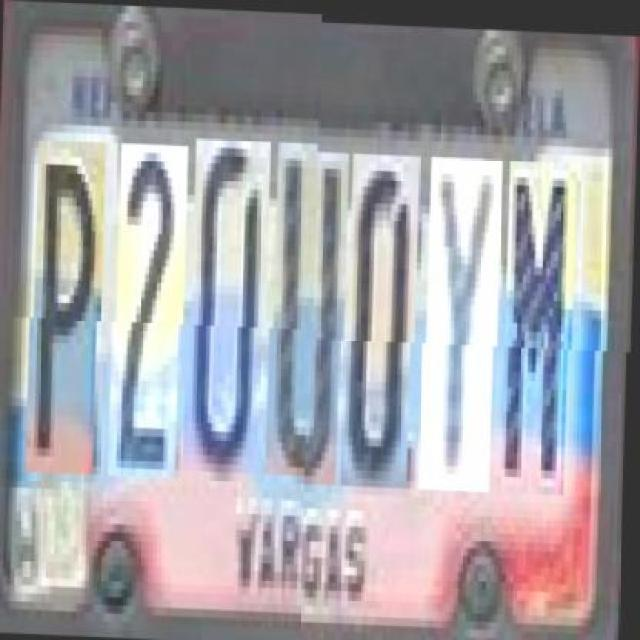0: (190, 145, 272, 480), (347, 150, 421, 484)
2: (114, 150, 188, 484)
m: (504, 156, 578, 490)
p: (32, 148, 106, 482)
u: (272, 148, 350, 482)
y: (425, 154, 503, 488)
